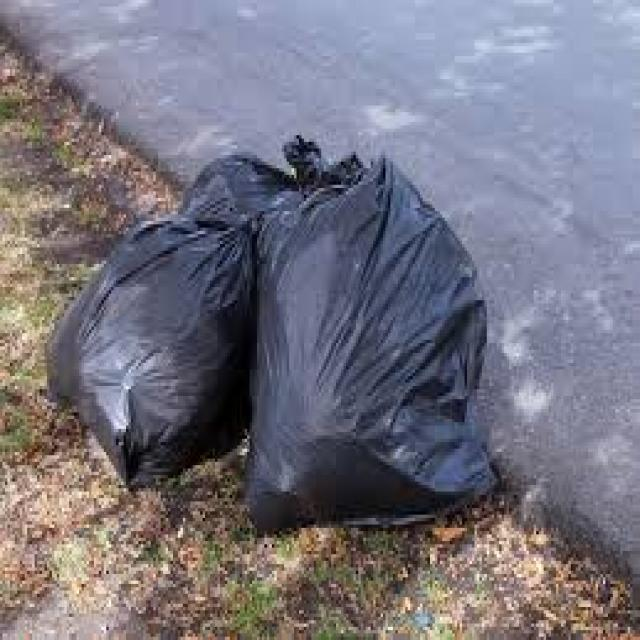plastic_bag: (253, 156, 493, 519), (60, 209, 258, 459)
